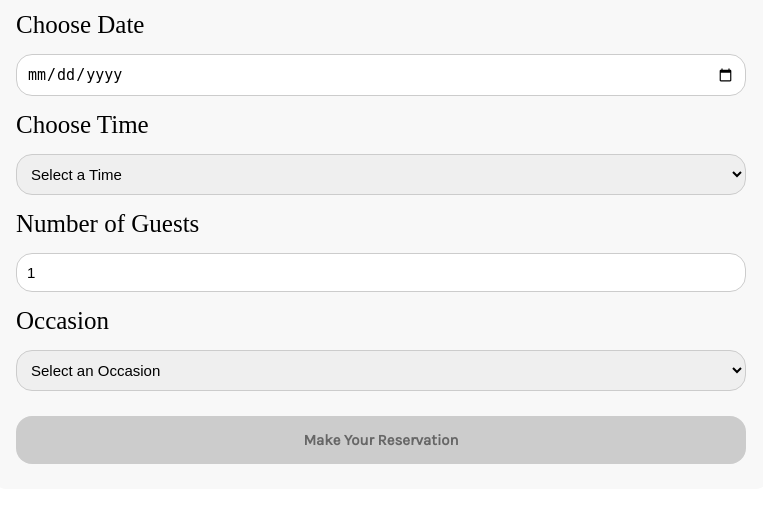
Test: ReservationForm Validation Logic › Displays error if number of guests is more than 10
The width and height of the screenshot is (763, 512).
Step 1. Replace the text in the number field labelled "Number of Guests" with "15" → x=381, y=272, box [16,253,746,292]
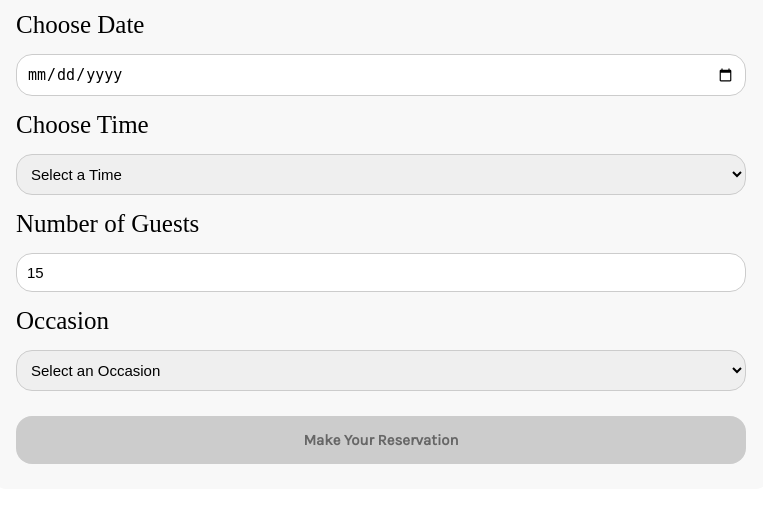
Step 2. Leave the number field labelled "Number of Guests", box [16,253,746,292]
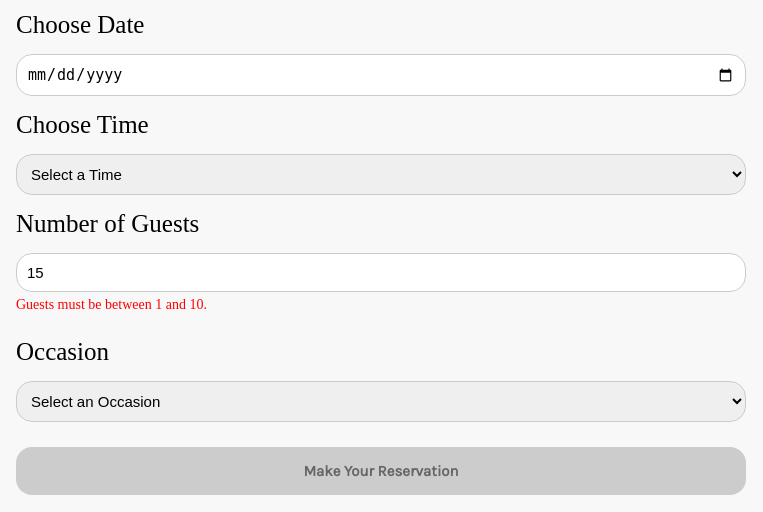
Expected: the text "Guests must be between 1 and 10." is shown, [16,297,207,312]
